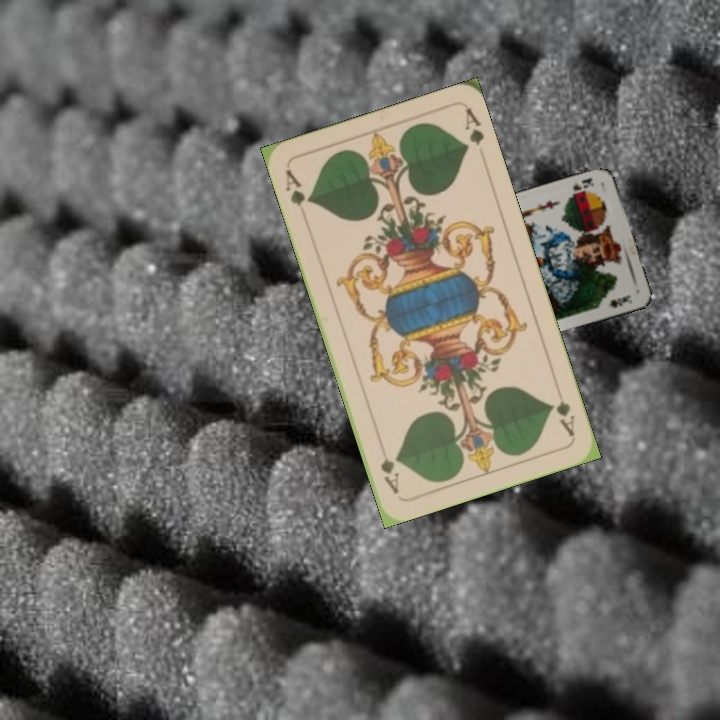GA: (281, 165, 313, 209), (547, 396, 578, 439)
SK: (563, 174, 596, 200)
